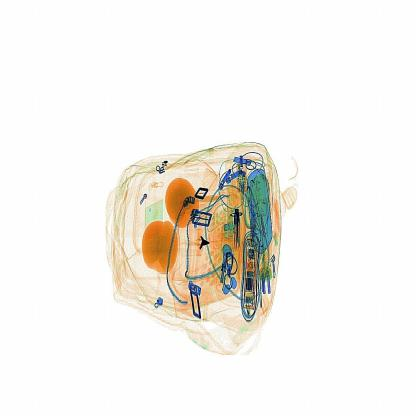gun: (187, 216, 214, 262)
